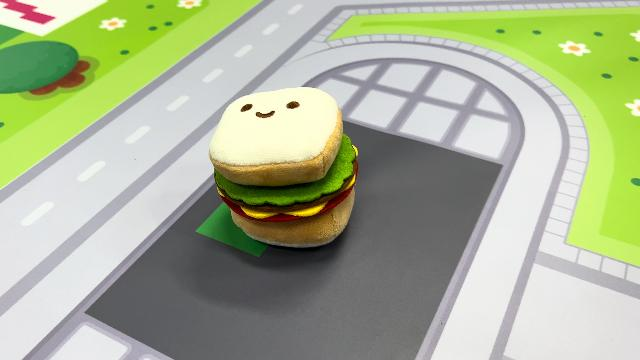sandwich: (207, 85, 361, 250)
